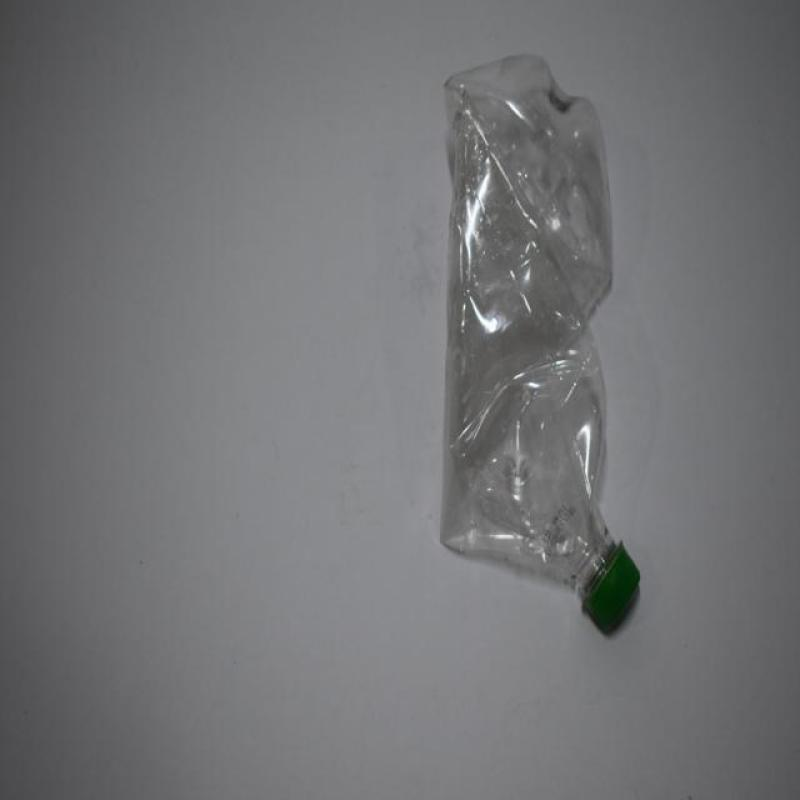botella: (442, 54, 642, 638)
